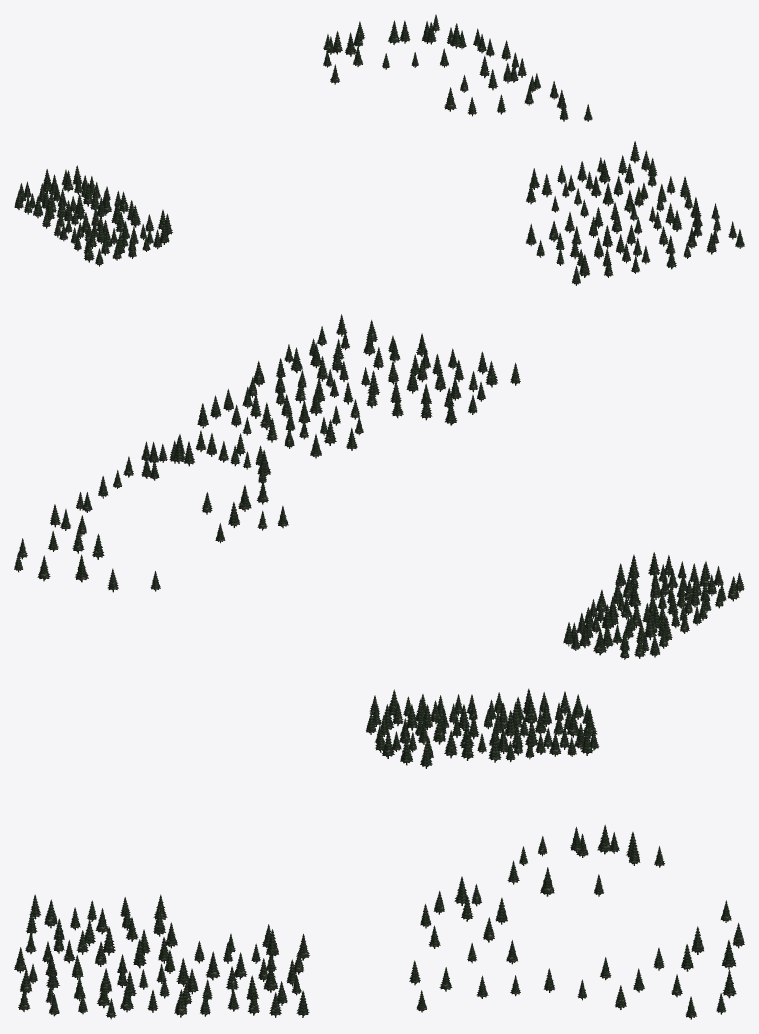
Rendered from Pinares.glb.
3 renders of one model, top to bottom at view 1: azimuth 30°, elevation 25°; view 2: azimuth 150°, elevation 25°; view 3: azimuth 270°, elevation 25°, orthographic. The views are drawn at different scales.
Size of the model in its own units: 345 by 55.39 by 344.
